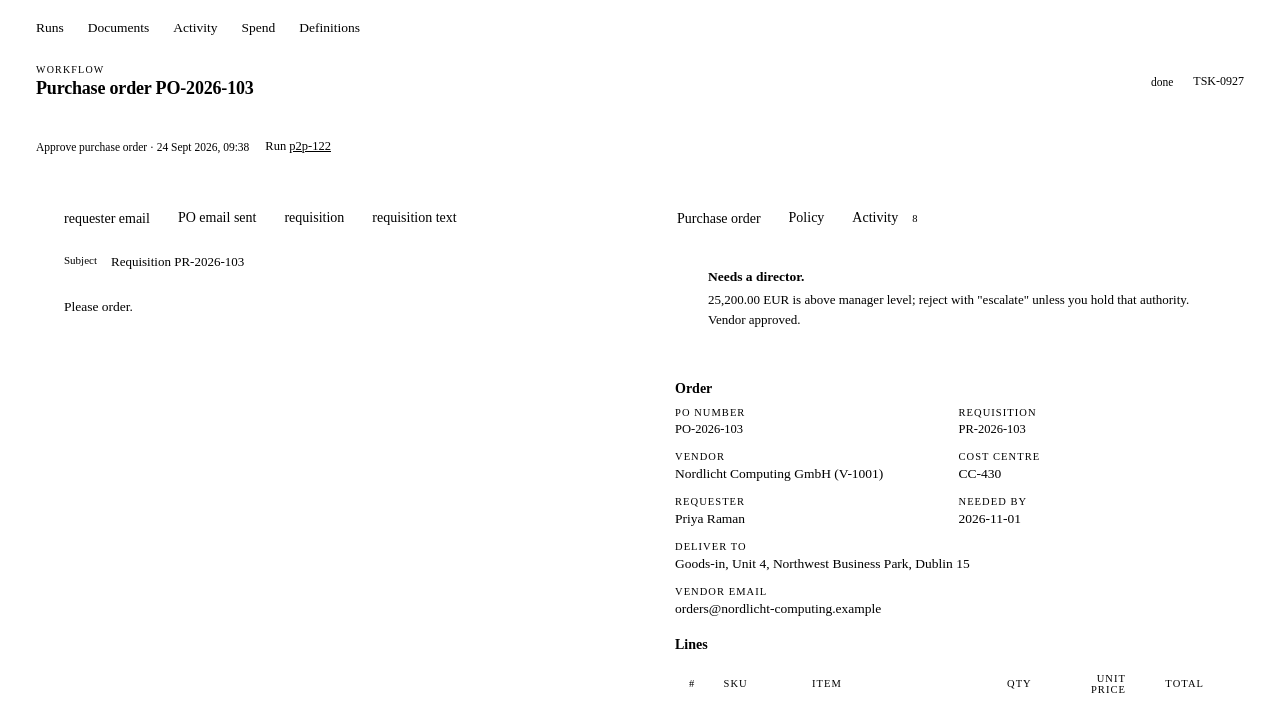
Work item screen › switches to the activity tab
Expected: the heading "Purchase order PO-2026-103" is shown, top-left (36, 78), bottom-right (254, 99)
Expected: the text "Requisition PR-2026-103" is shown, top-left (111, 254), bottom-right (244, 269)
Click the tab "Activity 8": click(888, 220) top-left (850, 200), bottom-right (926, 239)
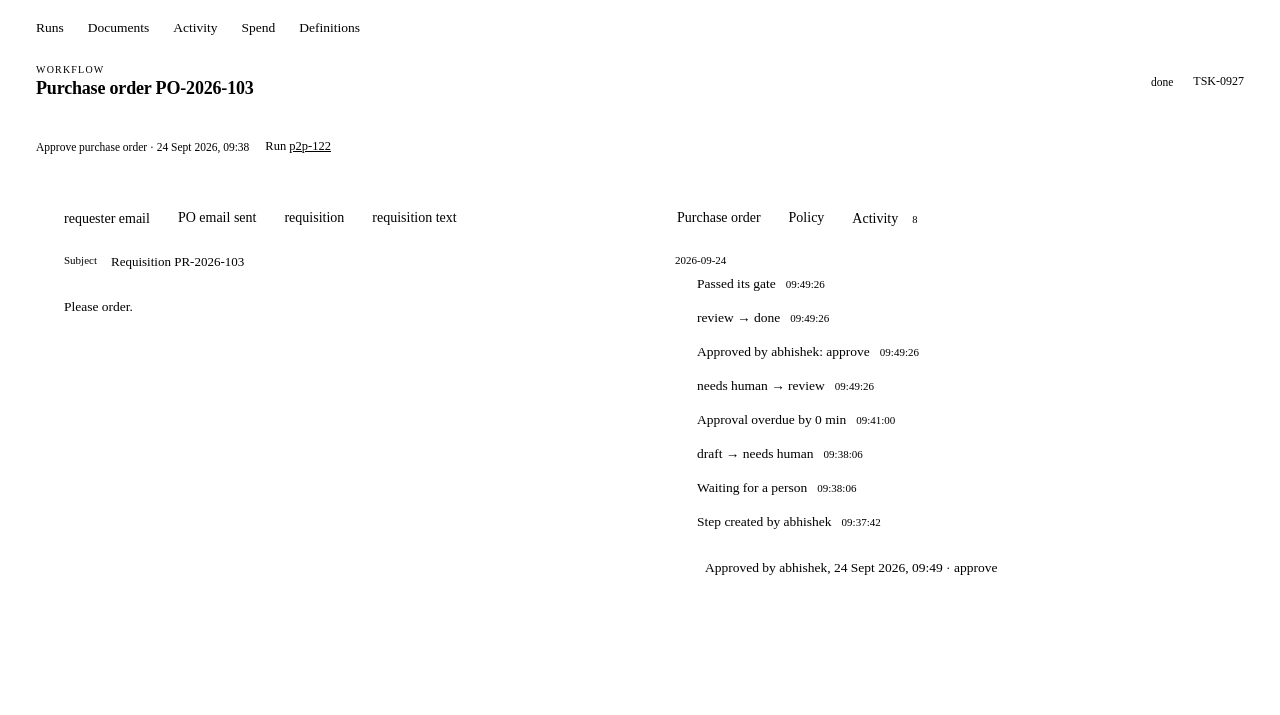
Now the text "Passed its gate" is shown, box top-left (697, 276), bottom-right (776, 291)
